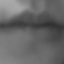MouthFatigue: (1, 6, 64, 42)
